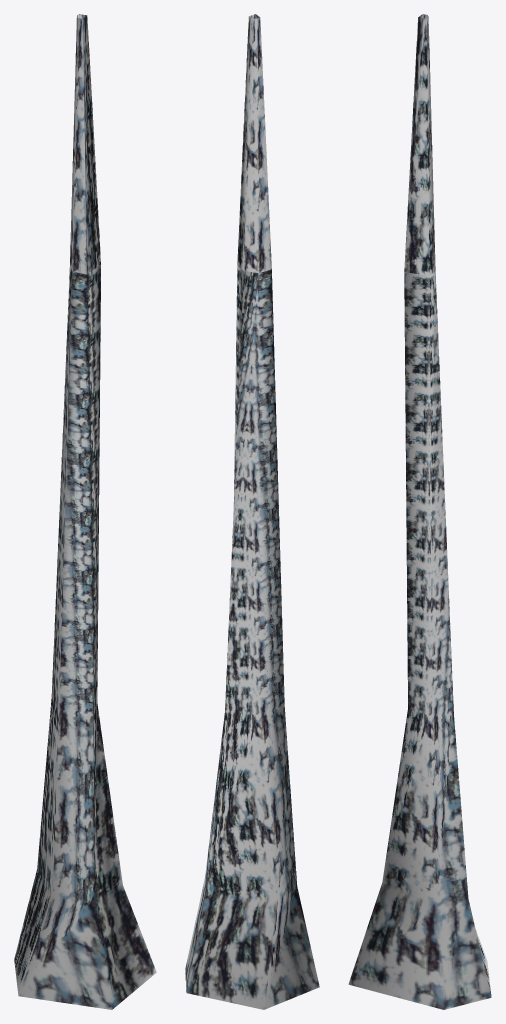
File: tree0201.obj
The picture shows the model from 3 angles, left to right: view 1: azimuth 90°, elevation 25°; view 2: azimuth 150°, elevation 25°; view 3: azimuth 270°, elevation 25°; orthographic projection.
Visible parts, largest first — view 1: tree0201; view 2: tree0201; view 3: tree0201.
Part boxes in pixels (<box>): tree0201: <box>14,14,156,1009</box>; tree0201: <box>185,14,319,1009</box>; tree0201: <box>348,14,491,1009</box>.
Bounding box in the file's own units: 34.81 × 295 × 39.31.
